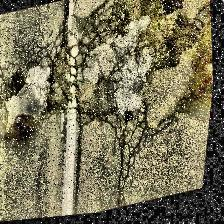pothole: (149, 11, 218, 76), (0, 111, 46, 150), (135, 0, 195, 24), (1, 66, 38, 102), (186, 76, 216, 108), (121, 112, 141, 130)
